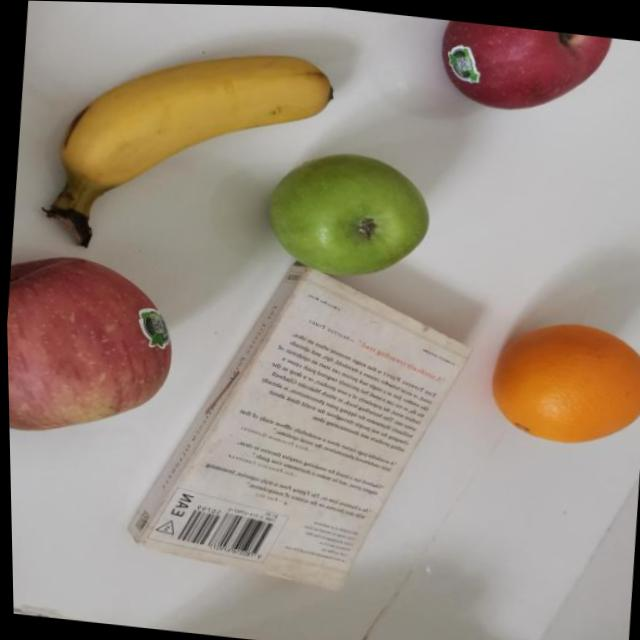Apple: (4, 253, 183, 449), (257, 142, 439, 287), (431, 17, 618, 121)
Banana: (49, 30, 339, 277)
Book: (111, 247, 480, 602)
Orange: (482, 309, 640, 452)
